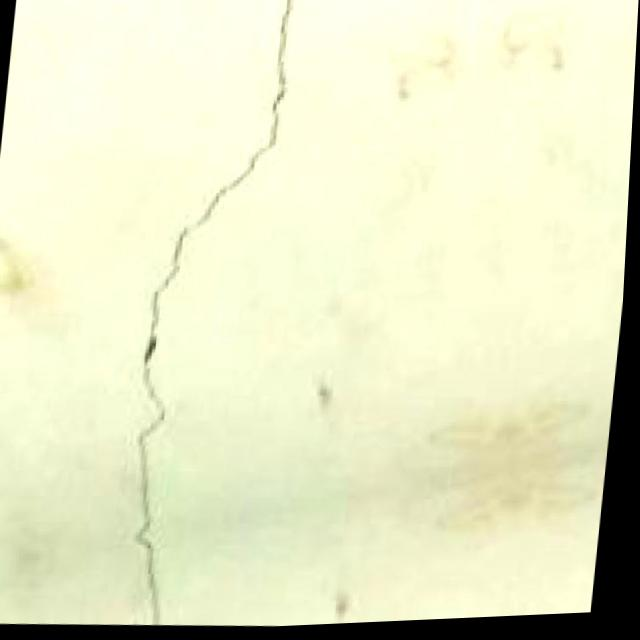Crack: (91, 0, 326, 635)
